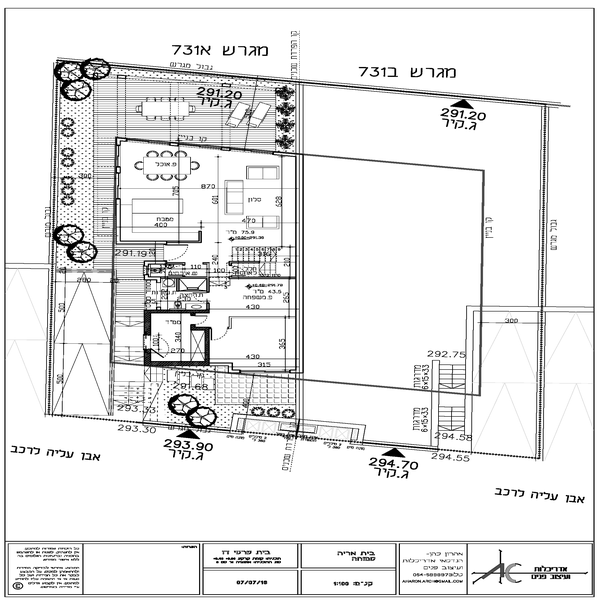room: (140, 296, 216, 368)
